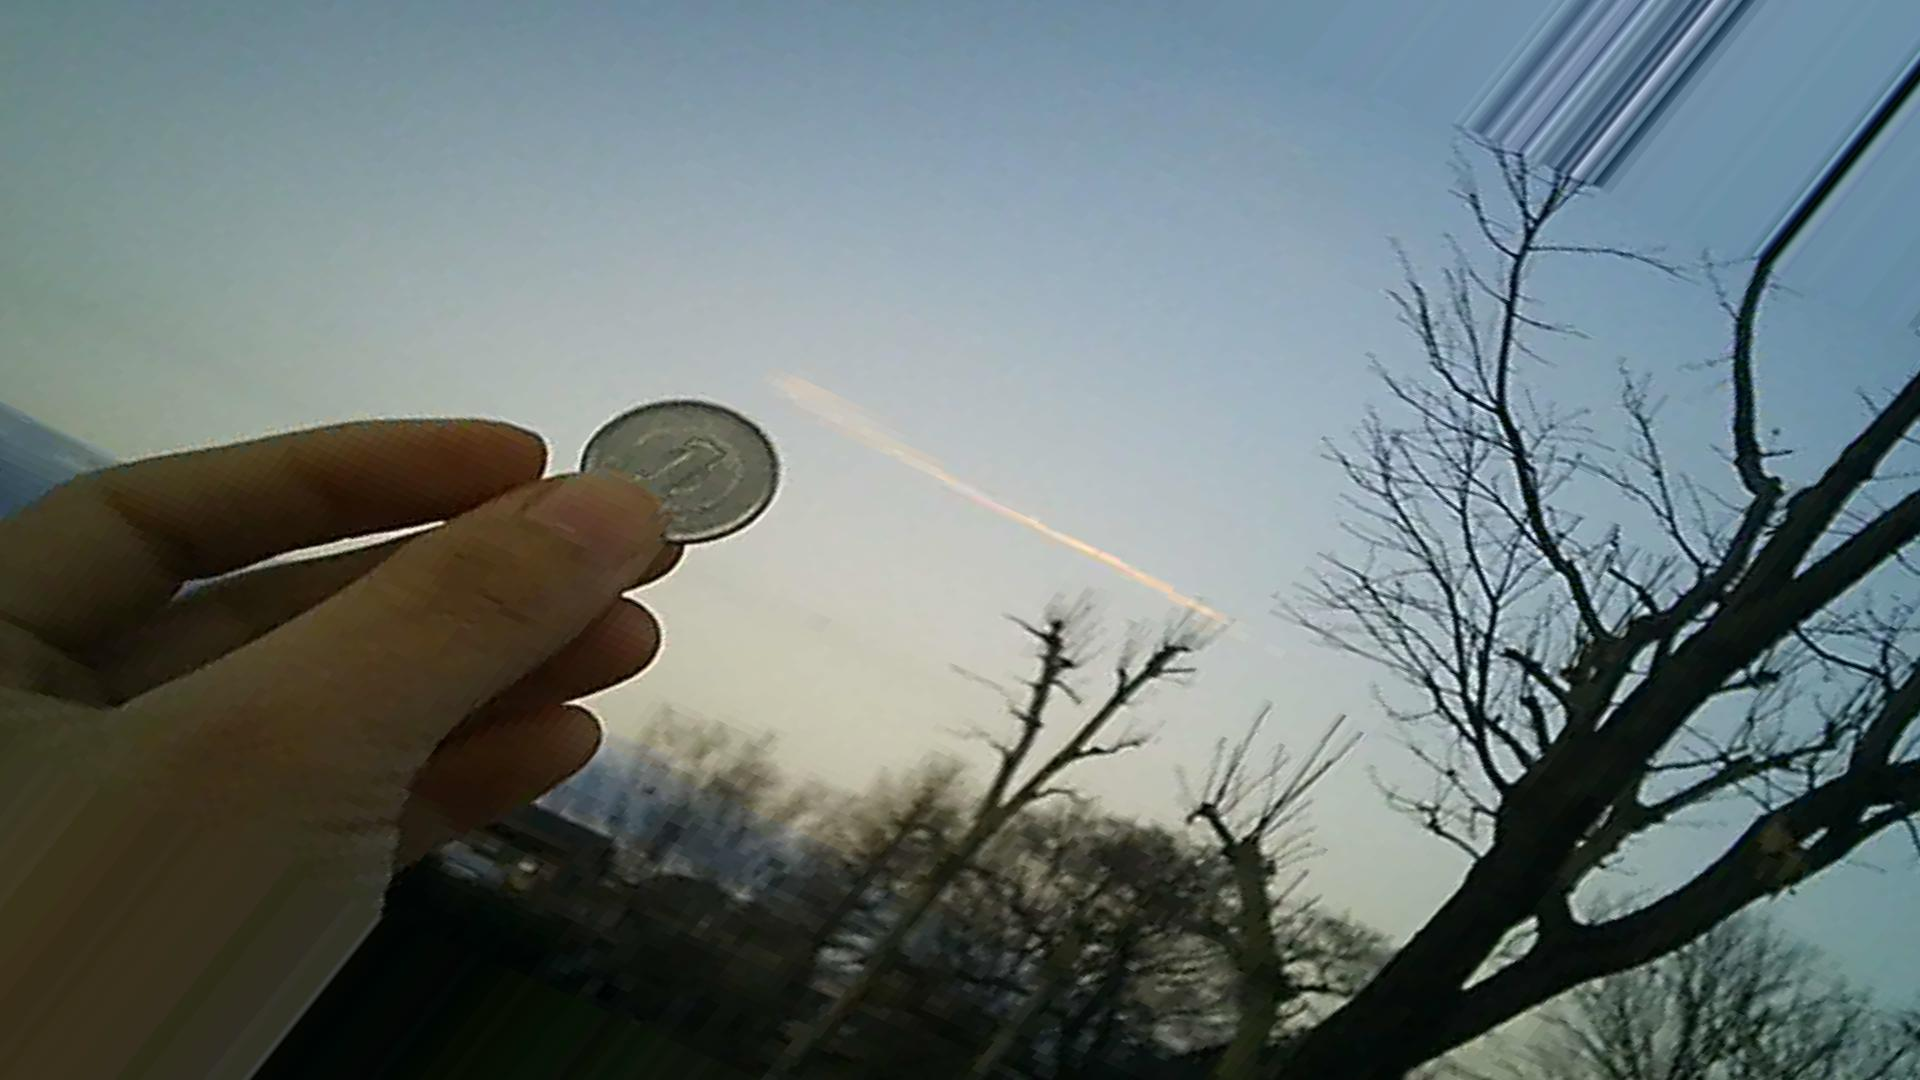1 Yen: (575, 380, 787, 560)
